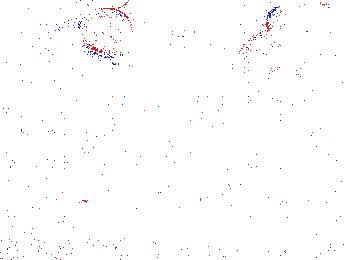moon jellyfish: (236, 30, 311, 102), (27, 29, 82, 124), (264, 1, 346, 58), (79, 8, 134, 59), (1, 1, 71, 40)
